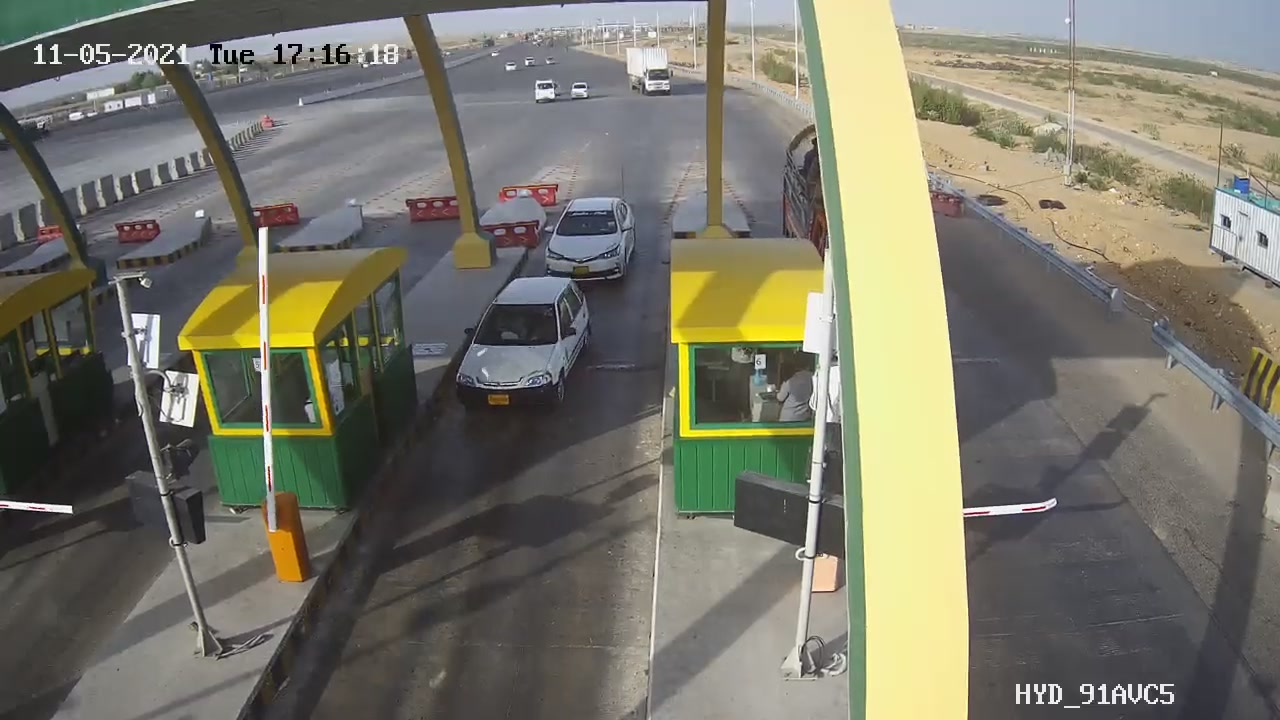F1: (442, 266, 611, 426), (529, 185, 648, 299)
